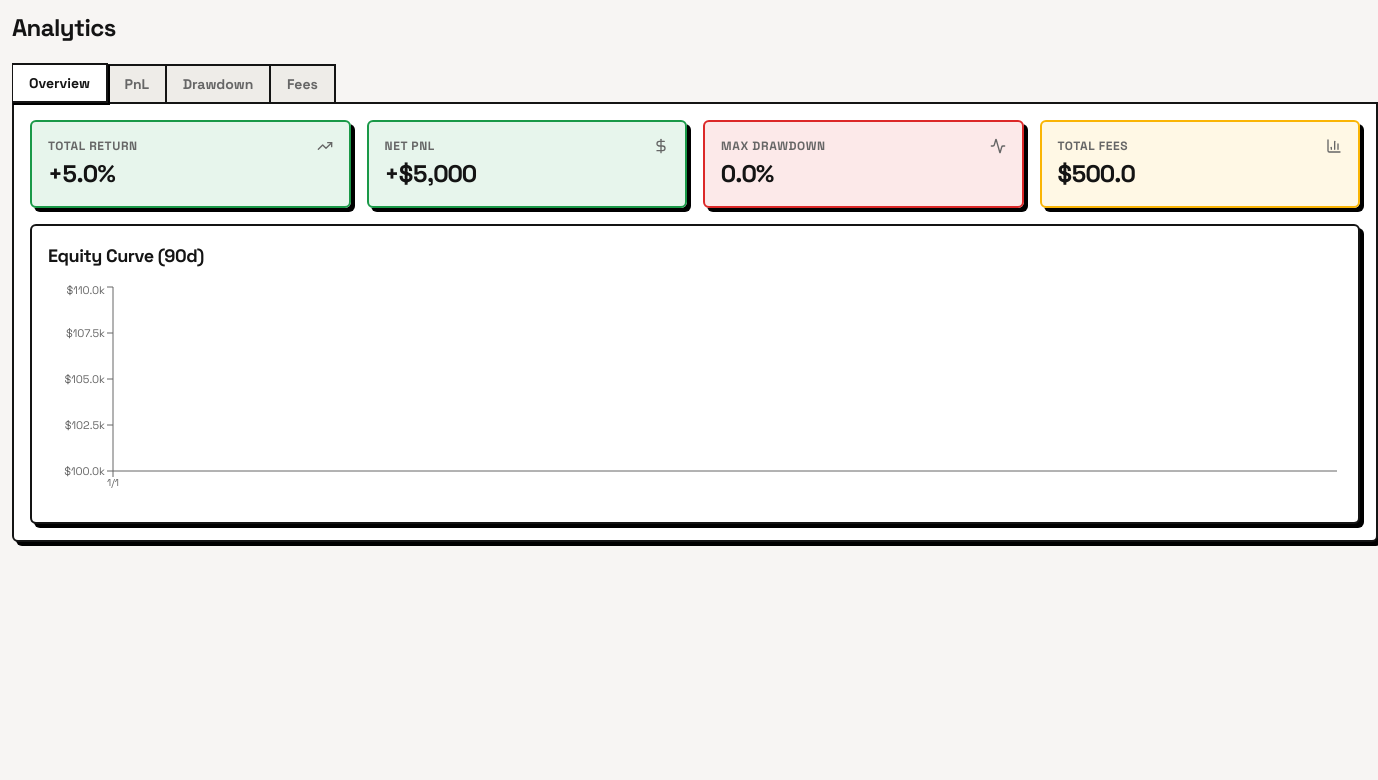
Test: AnalyticsPage › Drawdown Tab › shows loading state in Drawdown tab
Click the button "Drawdown": (218, 84) [165, 64, 272, 104]
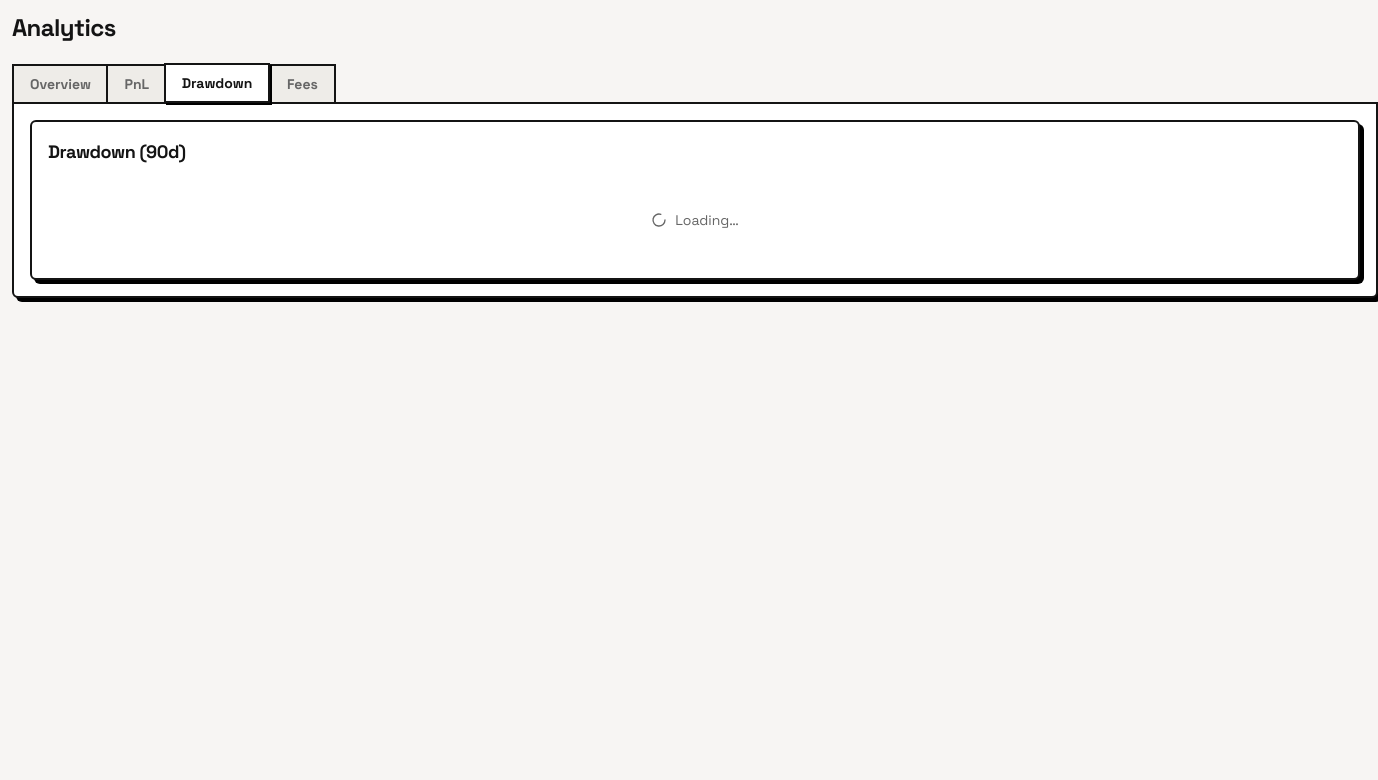
Check: the text "Loading…" is shown, box [675, 210, 739, 230]
